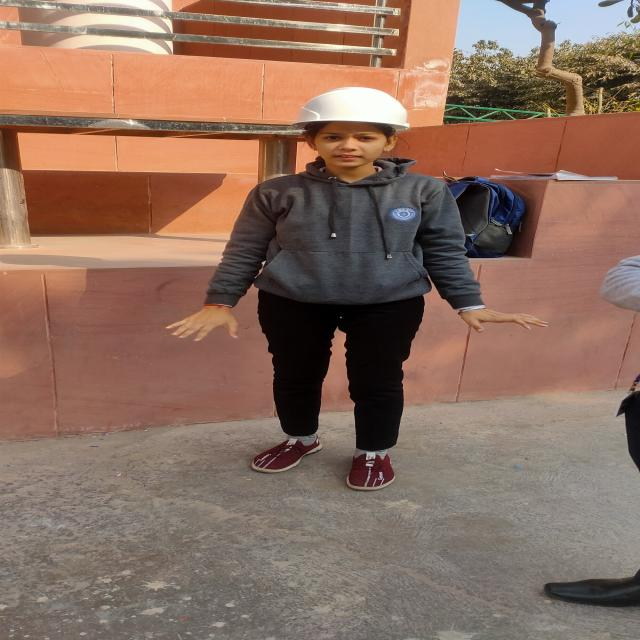no jacket: (167, 87, 497, 490)
